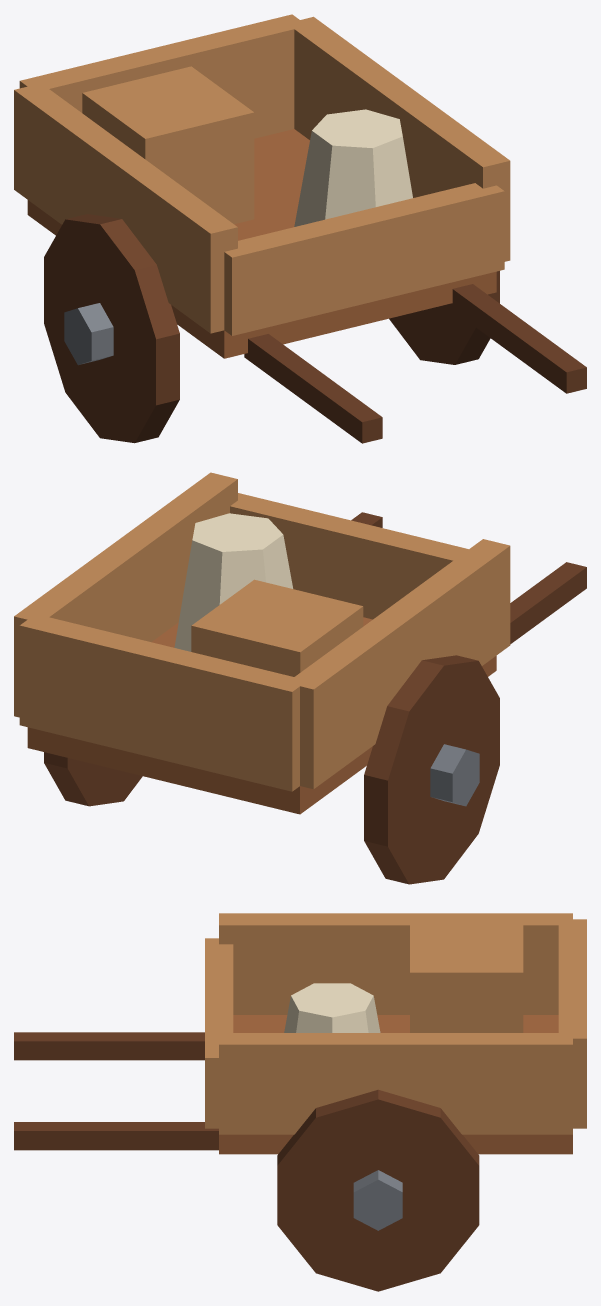
The model's file is a-cart.glb.
The picture shows the model from 3 angles, top to bottom: view 1: azimuth 30°, elevation 25°; view 2: azimuth 150°, elevation 25°; view 3: azimuth 270°, elevation 25°; orthographic projection. The views are drawn at different scales.
Parts seen in each view (by area): view 1: a-cart; view 2: a-cart; view 3: a-cart.
Part boxes in pixels (<box>): a-cart: <box>14,14,586,443</box>; a-cart: <box>14,472,586,884</box>; a-cart: <box>14,913,586,1291</box>.
Bounding box in the file's own units: 1.14 × 0.76 × 1.62.
